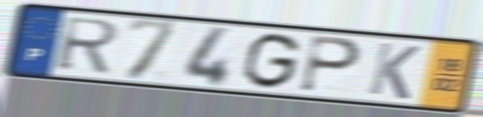4: (182, 23, 233, 89)
7: (126, 16, 183, 84)
G: (240, 31, 304, 91)
K: (365, 40, 424, 102)
P: (297, 34, 365, 96)
R: (53, 15, 123, 75)
